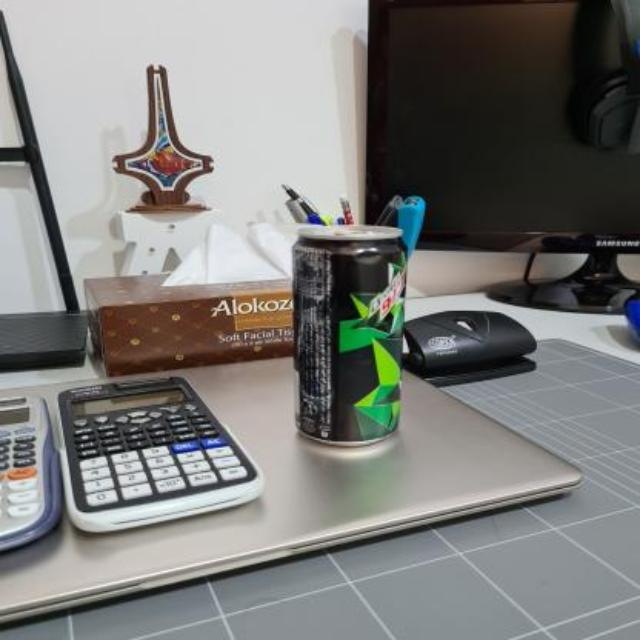cardboard paper: (171, 222, 292, 285)
metal: (292, 225, 405, 455)
